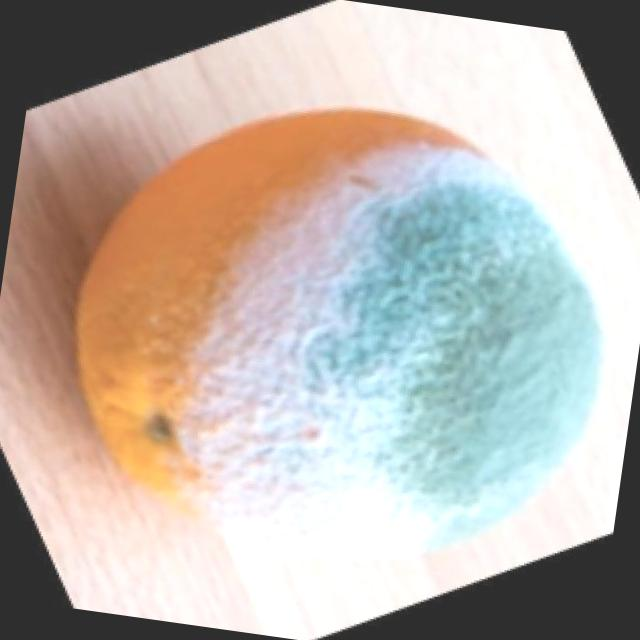Orange: (46, 68, 637, 590)
